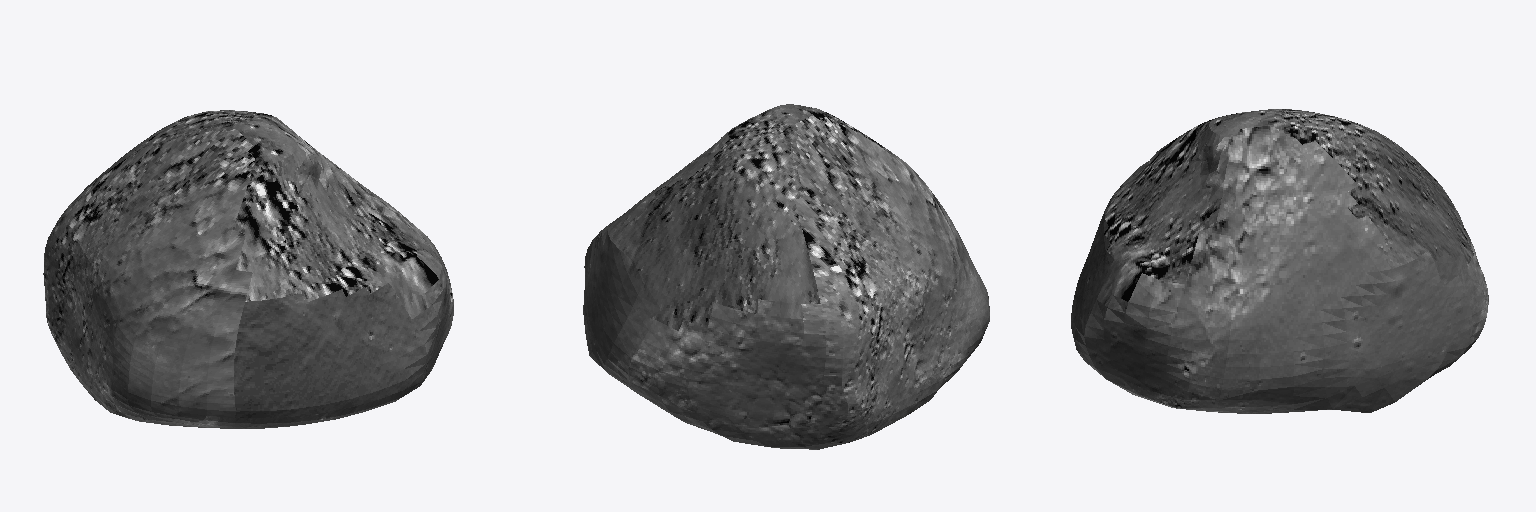
3 renders of one model, left to right at view 1: azimuth 30°, elevation 25°; view 2: azimuth 150°, elevation 25°; view 3: azimuth 270°, elevation 25°, orthographic.
Parts seen in each view (by area): view 1: Rocks6; view 2: Rocks6; view 3: Rocks6.
Boxes of the visible parts, <box> form: Rocks6: <box>43,110,453,428</box>; Rocks6: <box>583,104,989,449</box>; Rocks6: <box>1071,109,1488,413</box>.
Bounding box in the file's own units: 0.6573 × 0.5087 × 0.6925.
Materials: 1 (1 with a texture image).